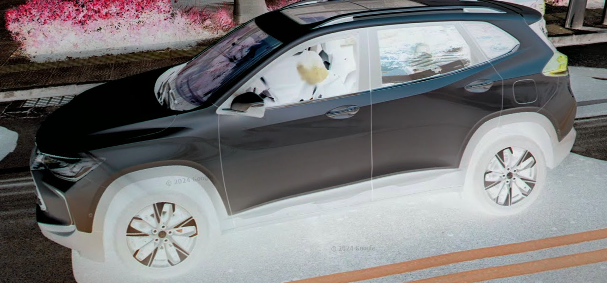car: (29, 2, 579, 279)
